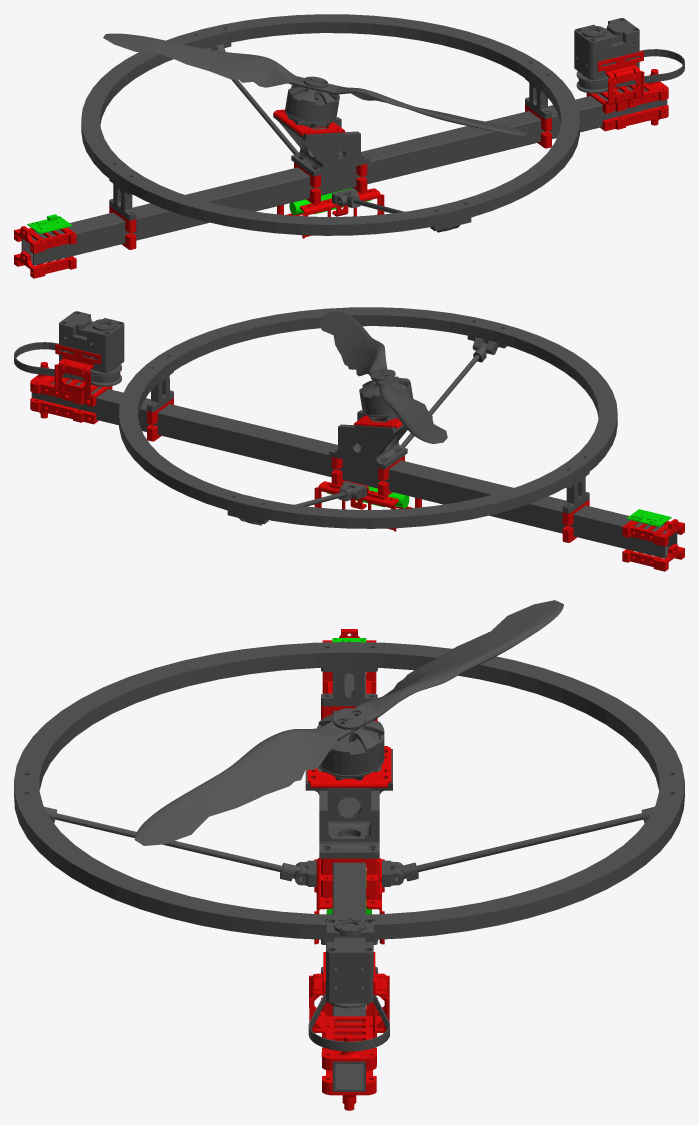
Rendered from tilt_10deg_15inch_link1.dae.
The picture shows the model from 3 angles, top to bottom: view 1: azimuth 30°, elevation 25°; view 2: azimuth 150°, elevation 25°; view 3: azimuth 270°, elevation 25°; orthographic projection. The views are drawn at different scales.
Parts seen in each view (by area): view 1: link1_tilt_15inch_black, link1_tilt_15inch_red, link1_green_part; view 2: link1_tilt_15inch_black, link1_tilt_15inch_red, link1_green_part; view 3: link1_tilt_15inch_black, link1_tilt_15inch_red.
Boxes of the visible parts, <box> form: link1_tilt_15inch_black: <box>21,14,684,265</box>; link1_tilt_15inch_red: <box>14,51,668,278</box>; link1_green_part: <box>27,188,371,233</box>; link1_tilt_15inch_black: <box>14,307,677,558</box>; link1_tilt_15inch_red: <box>30,344,684,571</box>; link1_green_part: <box>327,486,671,526</box>; link1_tilt_15inch_black: <box>14,600,684,1091</box>; link1_tilt_15inch_red: <box>307,629,391,1110</box>.
Bounding box in the file's own units: 0.6083 × 0.4 × 0.1436.
